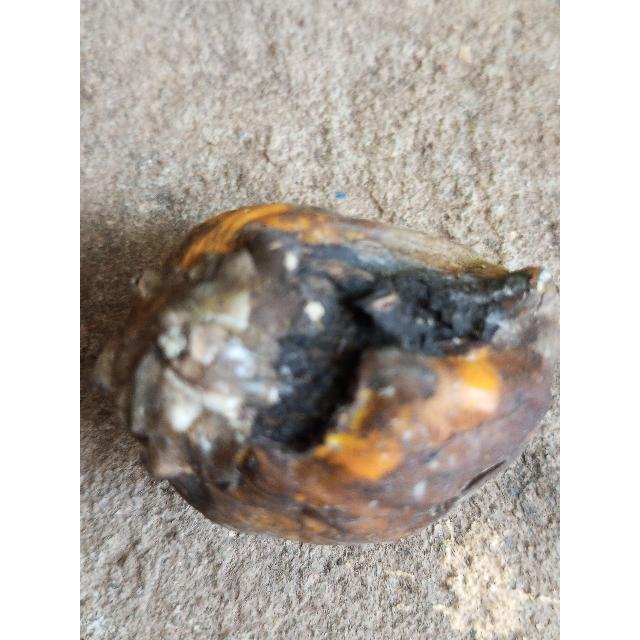damaged: (94, 204, 558, 543)
